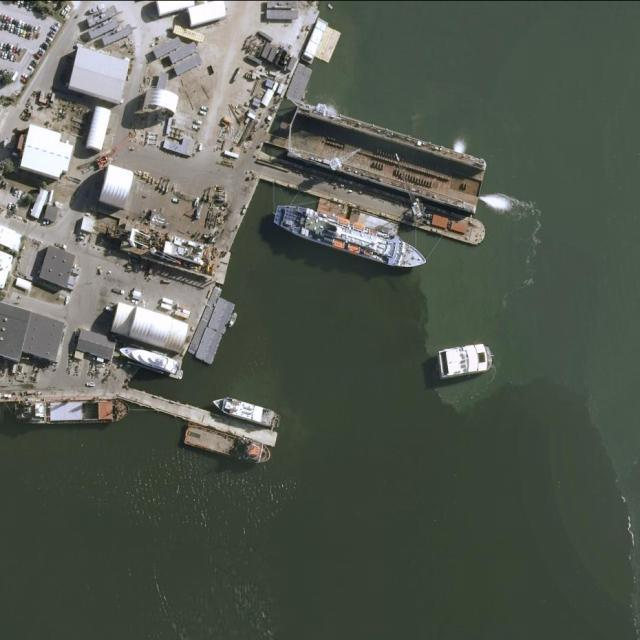Cargo: (268, 195, 432, 279), (181, 420, 273, 469), (14, 397, 129, 426)
Dock: (257, 149, 491, 247), (117, 383, 282, 447)
Yacht: (211, 394, 281, 429), (117, 342, 184, 374)
